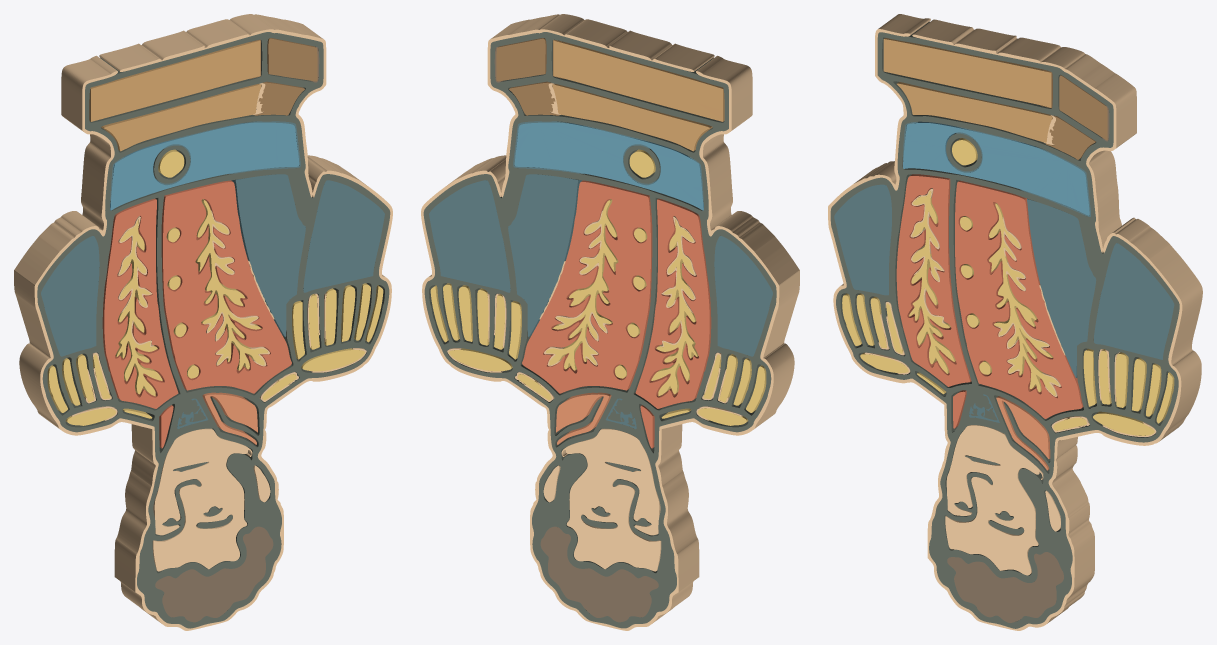
The model's file is Guerrero.fbx.
The picture shows the model from 3 angles, left to right: view 1: azimuth 30°, elevation 25°; view 2: azimuth 150°, elevation 25°; view 3: azimuth 330°, elevation 25°; orthographic projection.
Visible parts, largest first — view 1: imagetostl_mesh0, imagetostl_mesh9, imagetostl_mesh5, imagetostl_mesh8, imagetostl_mesh6, imagetostl_mesh64, imagetostl_mesh33, imagetostl_mesh34, imagetostl_mesh62, imagetostl_mesh35, imagetostl_mesh65, imagetostl_mesh63 (+13 smaller); view 2: imagetostl_mesh0, imagetostl_mesh9, imagetostl_mesh5, imagetostl_mesh8, imagetostl_mesh6, imagetostl_mesh64, imagetostl_mesh33, imagetostl_mesh34, imagetostl_mesh62, imagetostl_mesh35, imagetostl_mesh65, imagetostl_mesh63 (+13 smaller); view 3: imagetostl_mesh0, imagetostl_mesh9, imagetostl_mesh5, imagetostl_mesh8, imagetostl_mesh6, imagetostl_mesh64, imagetostl_mesh33, imagetostl_mesh34, imagetostl_mesh62, imagetostl_mesh35, imagetostl_mesh65, imagetostl_mesh63 (+12 smaller).
Part boxes in pixels (x1=…): imagetostl_mesh0: x1=37, y1=32, x2=390, y2=628; imagetostl_mesh9: x1=14, y1=14, x2=392, y2=630; imagetostl_mesh5: x1=161, y1=180, x2=291, y2=393; imagetostl_mesh8: x1=152, y1=428, x2=252, y2=571; imagetostl_mesh6: x1=102, y1=198, x2=178, y2=408; imagetostl_mesh64: x1=110, y1=122, x2=299, y2=210; imagetostl_mesh33: x1=231, y1=174, x2=305, y2=337; imagetostl_mesh34: x1=303, y1=180, x2=384, y2=292; imagetostl_mesh62: x1=89, y1=40, x2=260, y2=121; imagetostl_mesh35: x1=41, y1=236, x2=99, y2=356; imagetostl_mesh65: x1=155, y1=526, x2=273, y2=622; imagetostl_mesh63: x1=101, y1=84, x2=261, y2=151; imagetostl_mesh0: x1=423, y1=32, x2=776, y2=628; imagetostl_mesh9: x1=421, y1=14, x2=799, y2=630; imagetostl_mesh5: x1=522, y1=180, x2=652, y2=393; imagetostl_mesh8: x1=561, y1=428, x2=661, y2=571; imagetostl_mesh6: x1=635, y1=198, x2=711, y2=408; imagetostl_mesh64: x1=514, y1=122, x2=703, y2=210; imagetostl_mesh33: x1=508, y1=174, x2=582, y2=337; imagetostl_mesh34: x1=429, y1=180, x2=510, y2=292; imagetostl_mesh62: x1=553, y1=40, x2=724, y2=121; imagetostl_mesh35: x1=714, y1=236, x2=772, y2=356; imagetostl_mesh65: x1=540, y1=526, x2=658, y2=622; imagetostl_mesh63: x1=552, y1=84, x2=712, y2=151; imagetostl_mesh0: x1=830, y1=22, x2=1179, y2=628; imagetostl_mesh9: x1=828, y1=14, x2=1202, y2=630; imagetostl_mesh5: x1=955, y1=180, x2=1083, y2=418; imagetostl_mesh8: x1=945, y1=425, x2=1043, y2=575; imagetostl_mesh6: x1=896, y1=174, x2=971, y2=386; imagetostl_mesh64: x1=903, y1=121, x2=1089, y2=215; imagetostl_mesh33: x1=1027, y1=198, x2=1096, y2=377; imagetostl_mesh34: x1=1094, y1=243, x2=1174, y2=359; imagetostl_mesh62: x1=883, y1=38, x2=1051, y2=107; imagetostl_mesh35: x1=834, y1=184, x2=891, y2=295; imagetostl_mesh65: x1=947, y1=552, x2=1063, y2=622; imagetostl_mesh63: x1=897, y1=82, x2=1052, y2=143.
Bounding box in the file's own units: 9951 × 15467 × 1000.
